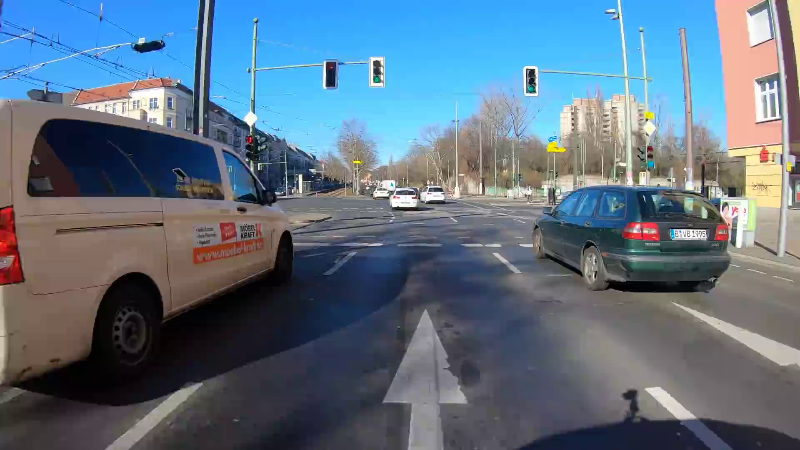Plate: (665, 228, 708, 239)
